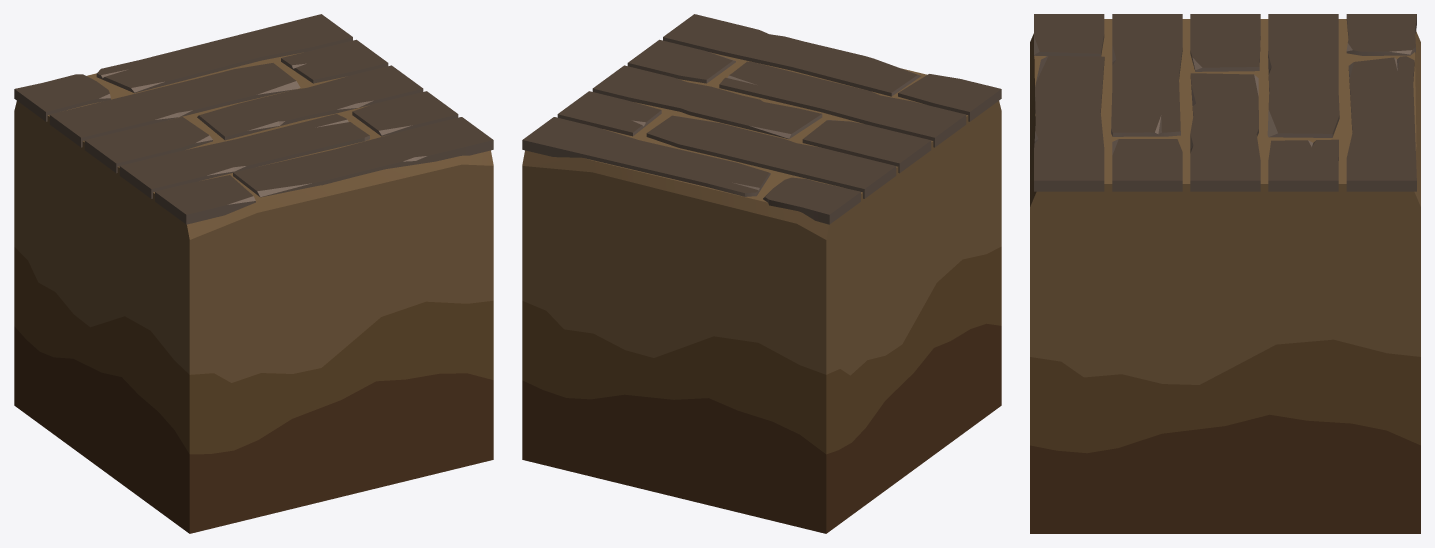
File: 20C_upstairs_Trench.fbx
3 views of the same model, side by side, from view 1: azimuth 30°, elevation 25°; view 2: azimuth 150°, elevation 25°; view 3: azimuth 270°, elevation 25° (orthographic). The views are drawn at different scales.
Visible parts, largest first — view 1: 20C_upstairs_Trench; view 2: 20C_upstairs_Trench; view 3: 20C_upstairs_Trench.
Part boxes in pixels (x1=…): 20C_upstairs_Trench: x1=14, y1=14, x2=493, y2=533; 20C_upstairs_Trench: x1=522, y1=14, x2=1001, y2=533; 20C_upstairs_Trench: x1=1030, y1=14, x2=1420, y2=533.
Bounding box in the file's own units: 20.2 × 20 × 20.
